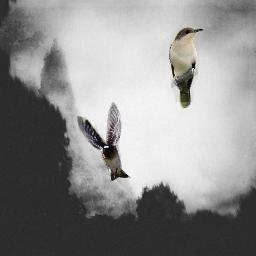Cuckoo: (169, 27, 204, 109)
Swallow: (77, 102, 131, 181)
